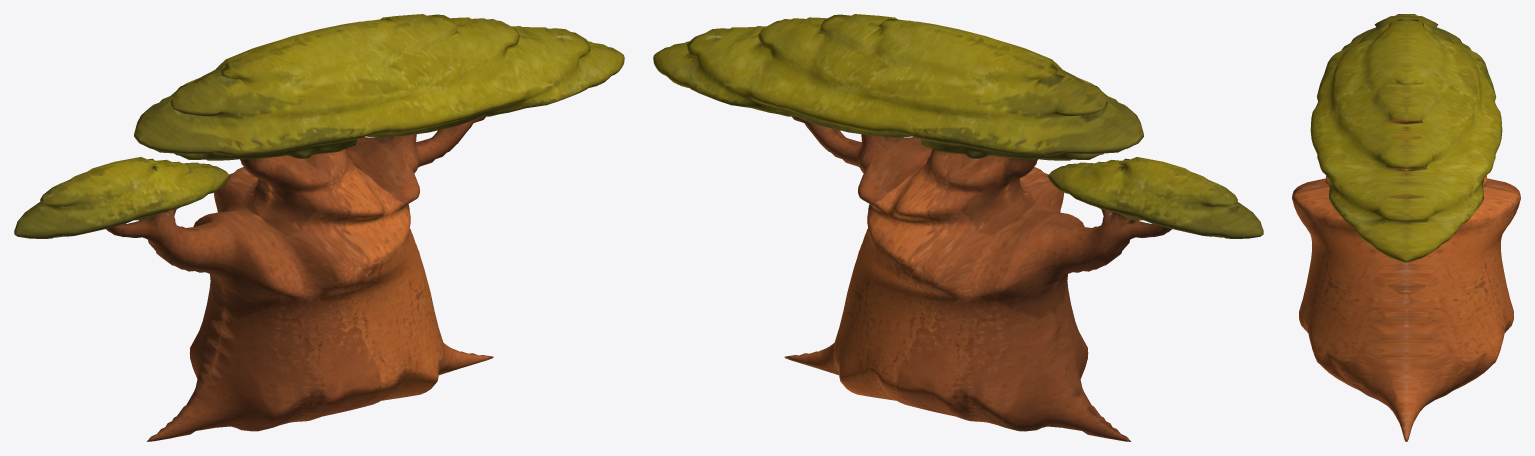
The model's file is 22_trees_a_r01_c00.glb.
3 views of the same model, side by side, from view 1: azimuth 30°, elevation 25°; view 2: azimuth 150°, elevation 25°; view 3: azimuth 270°, elevation 25° (orthographic). The views are drawn at different scales.
Visible parts, largest first — view 1: 22_trees_a_r01_c00; view 2: 22_trees_a_r01_c00; view 3: 22_trees_a_r01_c00.
Boxes of the visible parts, x1,y1,x2,y2 form: 22_trees_a_r01_c00: (14,14,624,441); 22_trees_a_r01_c00: (653,14,1263,441); 22_trees_a_r01_c00: (1292,14,1520,441).
Bounding box in the file's own units: 8.71 × 5.01 × 3.21.
Materials: 1 (1 with a texture image).
